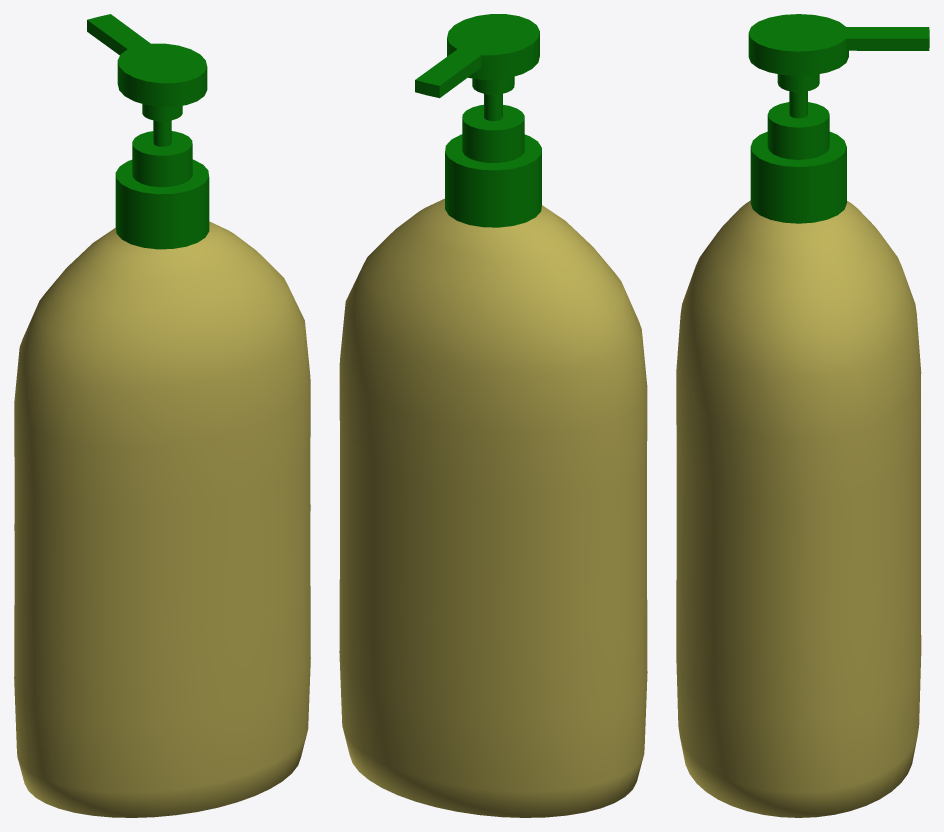
The model's file is Dishwashing_Liquid_Bottle.fbx.
3 renders of one model, left to right at view 1: azimuth 30°, elevation 25°; view 2: azimuth 150°, elevation 25°; view 3: azimuth 270°, elevation 25°, orthographic. The views are drawn at different scales.
Parts seen in each view (by area): view 1: pCylinder4, pCylinder3; view 2: pCylinder4, pCylinder3; view 3: pCylinder4, pCylinder3.
Part boxes in pixels (box(x1,y1,x2,y2)): pCylinder4: box(14, 131, 310, 817); pCylinder3: box(87, 14, 207, 146); pCylinder4: box(339, 104, 647, 817); pCylinder3: box(415, 14, 539, 121); pCylinder4: box(676, 102, 921, 817); pCylinder3: box(748, 14, 929, 118).
Size of the model in its own units: 1.33 by 3.33 by 1.05.
